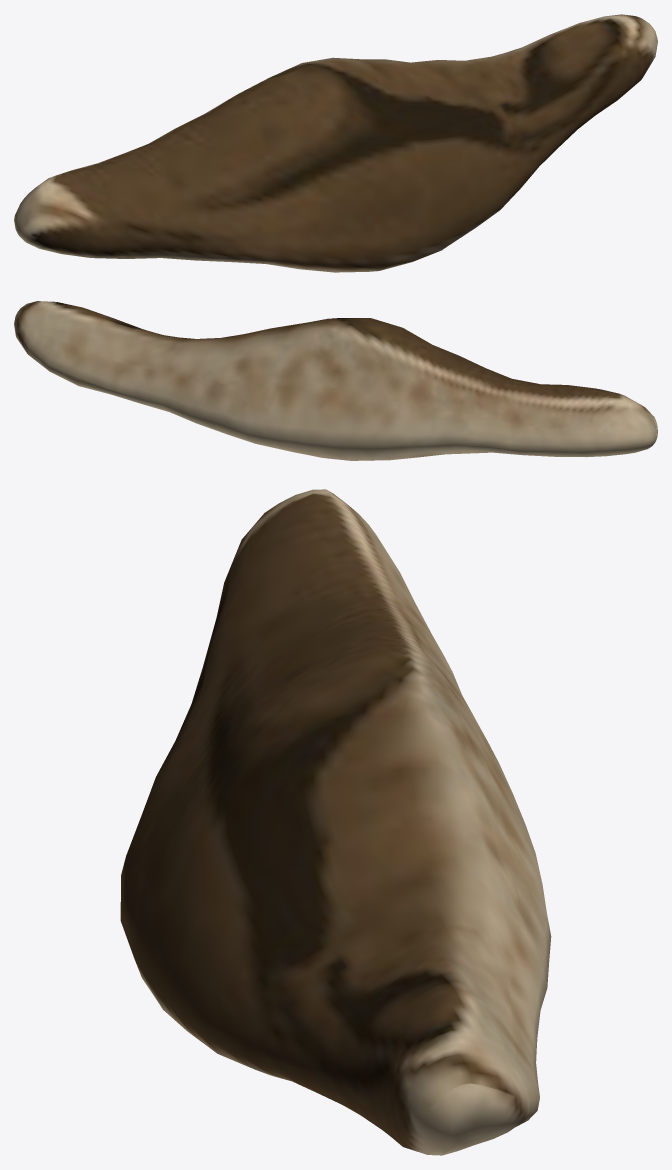
File: Navicular.glb
3 views of the same model, one above another, from view 1: azimuth 30°, elevation 25°; view 2: azimuth 150°, elevation 25°; view 3: azimuth 270°, elevation 25° (orthographic). The views are drawn at different scales.
Visible parts, largest first — view 1: R_Bck_Navicular; view 2: R_Bck_Navicular; view 3: R_Bck_Navicular.
Boxes of the visible parts, x1=… form: R_Bck_Navicular: x1=14, y1=14, x2=657, y2=272; R_Bck_Navicular: x1=14, y1=301, x2=657, y2=460; R_Bck_Navicular: x1=120, y1=489, x2=551, y2=1155.
Size of the model in its own units: 0.0483 by 0.0115 by 0.015.
Materials: 1 (1 with a texture image).
